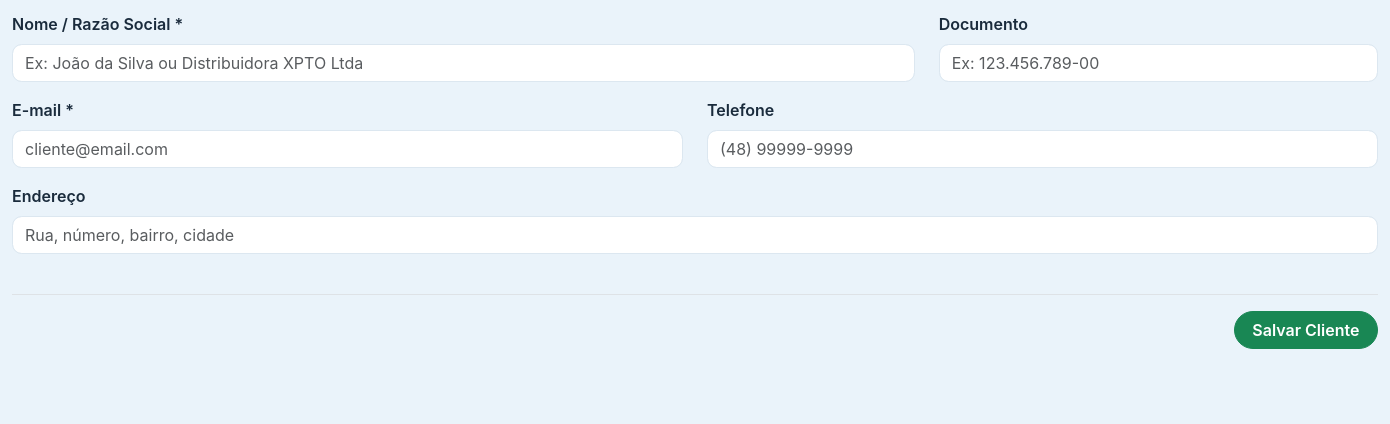
Test: Organism FormCreateClient › deve exibir mensagem de erro quando saveService falhar
The image size is (1390, 424).
In the field labelled "Nome / Razão Social *": (463, 63) [12, 44, 915, 82], type "Cliente Duplicado"
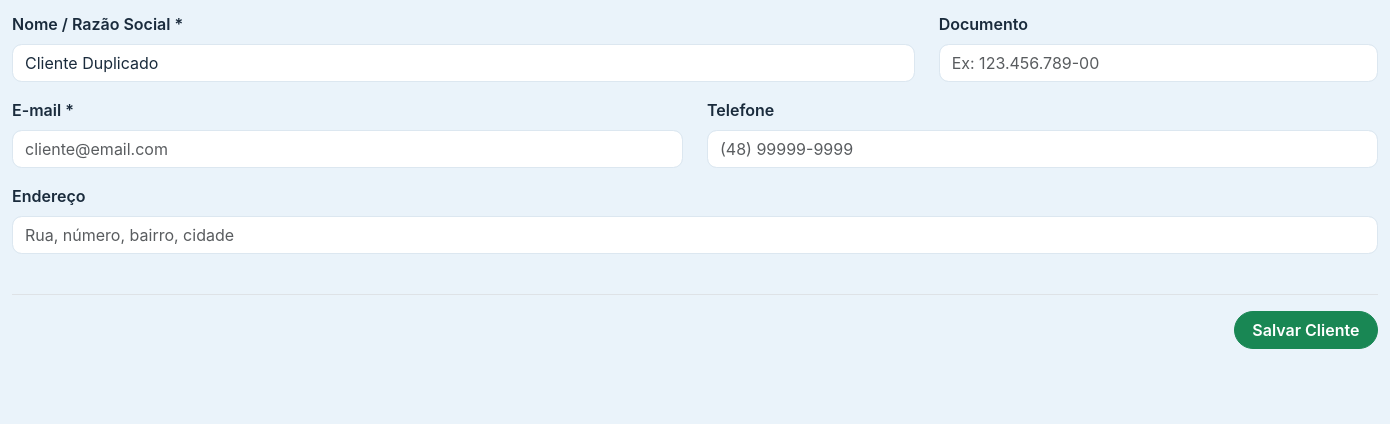
In the field labelled "E-mail *": (348, 149) [12, 130, 683, 168], type "duplicado@cliente.com"
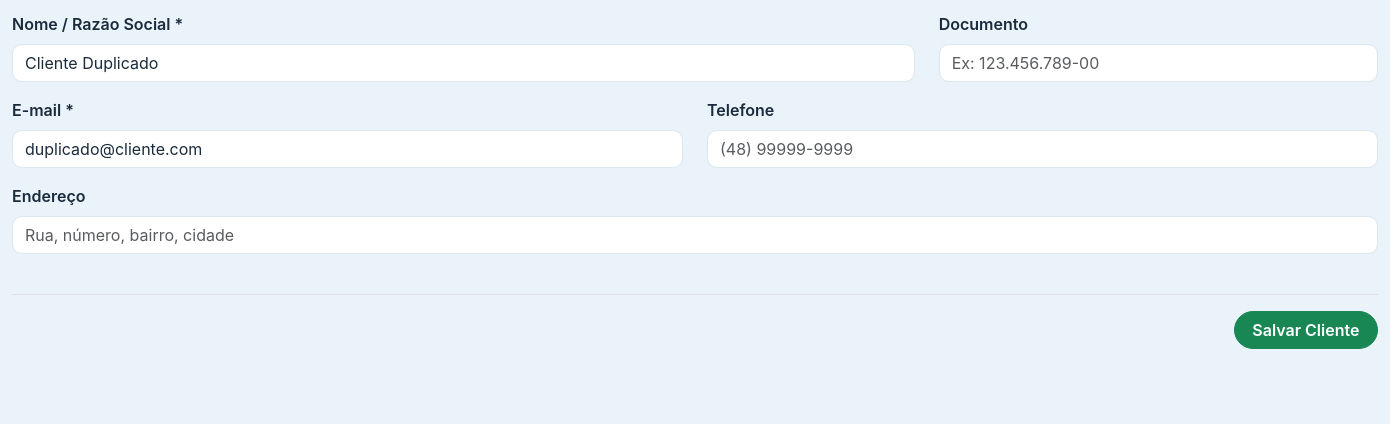
Click the button "Salvar Cliente": (1306, 330) [1234, 311, 1378, 349]
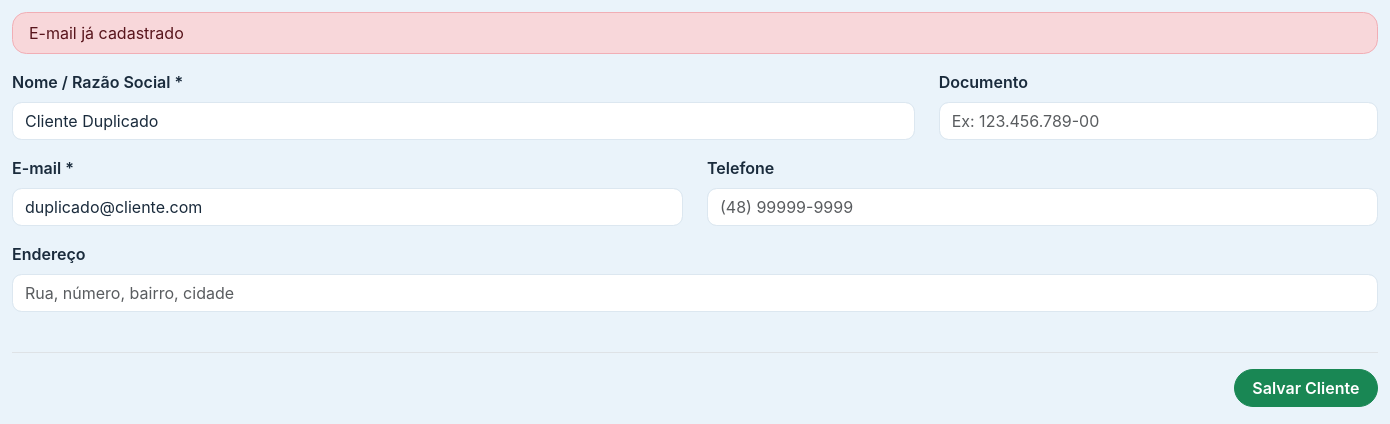
Result: the text "E-mail já cadastrado" is shown at [12, 12, 1378, 54]
